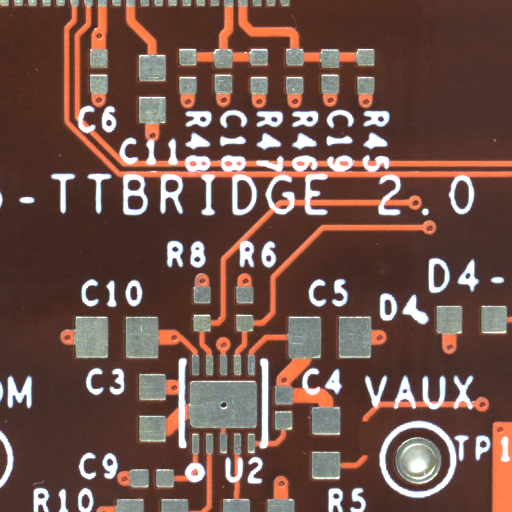Open_circuit: (364, 437, 379, 478)
